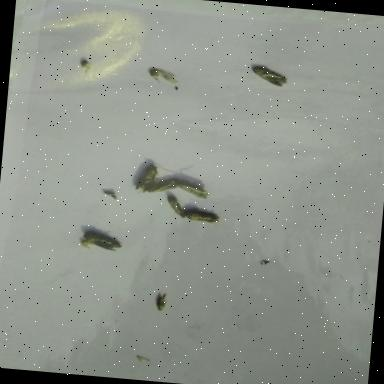pbw: (77, 229, 130, 255), (132, 160, 166, 196), (249, 63, 292, 90), (173, 176, 214, 201), (181, 206, 225, 228), (145, 174, 182, 198), (146, 66, 182, 90), (164, 192, 192, 221), (154, 290, 174, 315)
